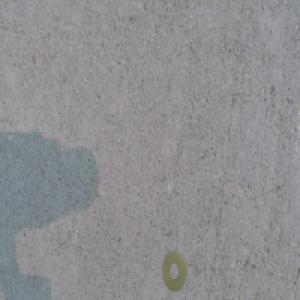Washer: (162, 251, 187, 292)
